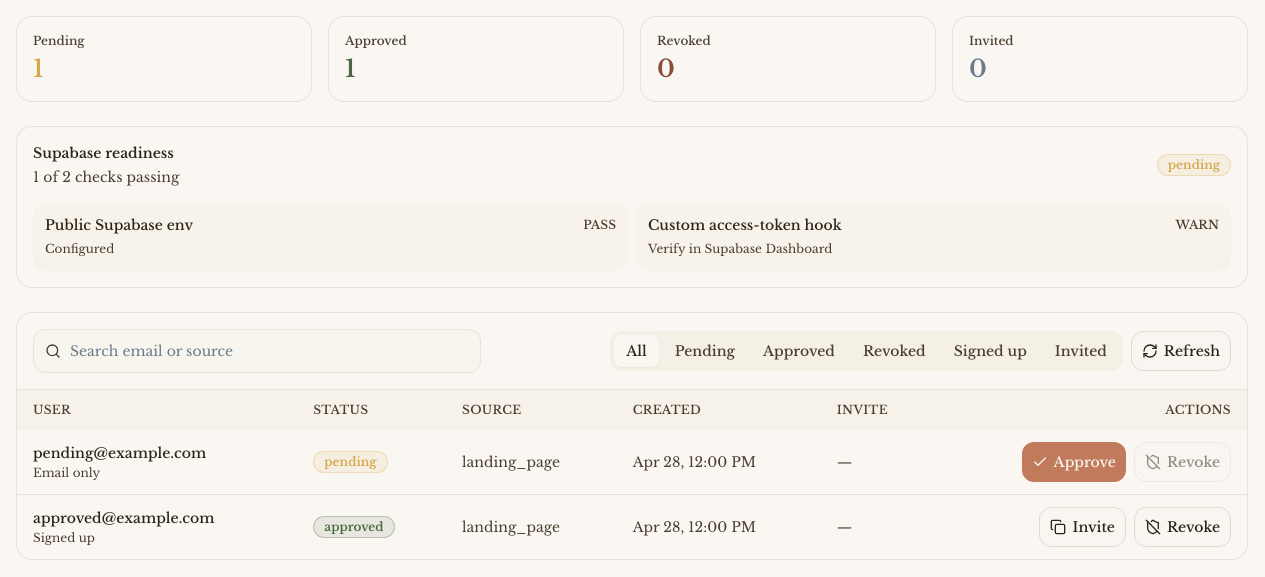
it: BetaAccessControlCenter › copies an invite link and records invite state
Expected: the text "approved@example.com" is shown, 33,509 -> 214,527
Click the button "Invite": (1083, 527) 1040,507 -> 1126,547
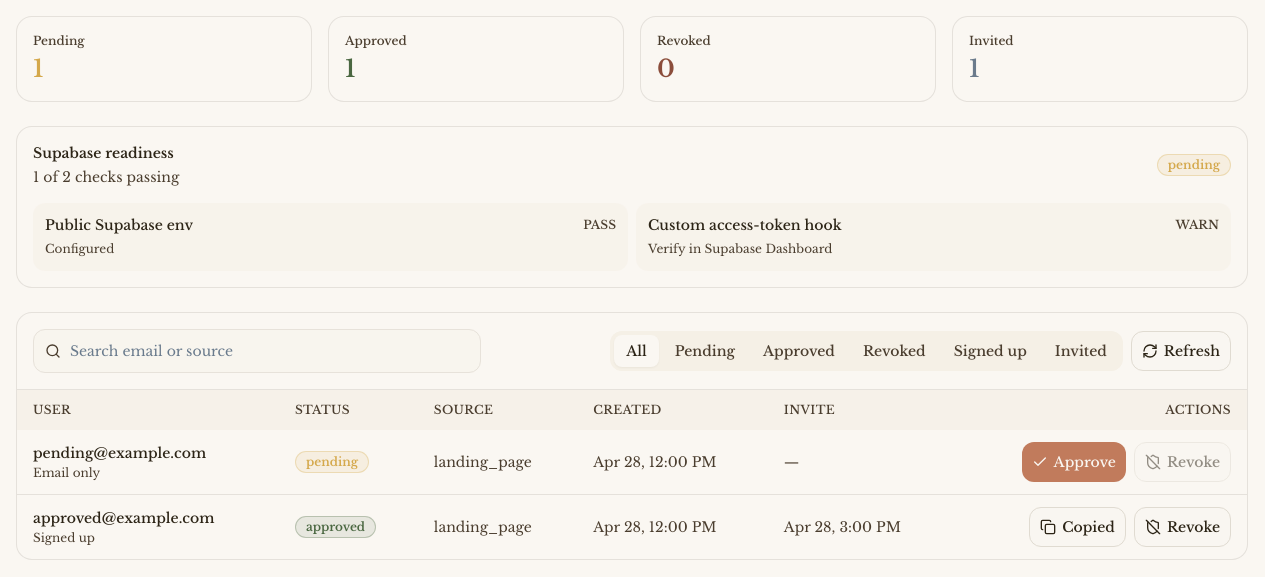
Expected: the button "Copied" is shown, 1029,507 -> 1126,547
